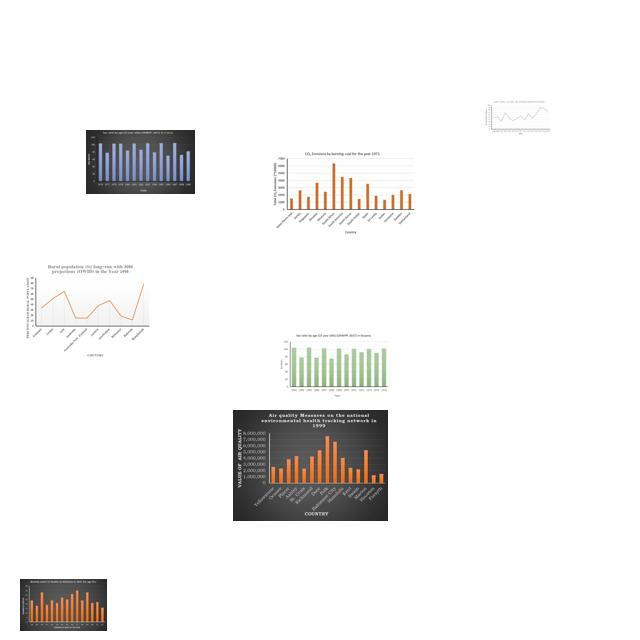Graph: (233, 410, 388, 521), (271, 150, 415, 235), (24, 263, 151, 358), (276, 332, 393, 399), (86, 130, 195, 194), (20, 579, 107, 631), (484, 100, 551, 135)
